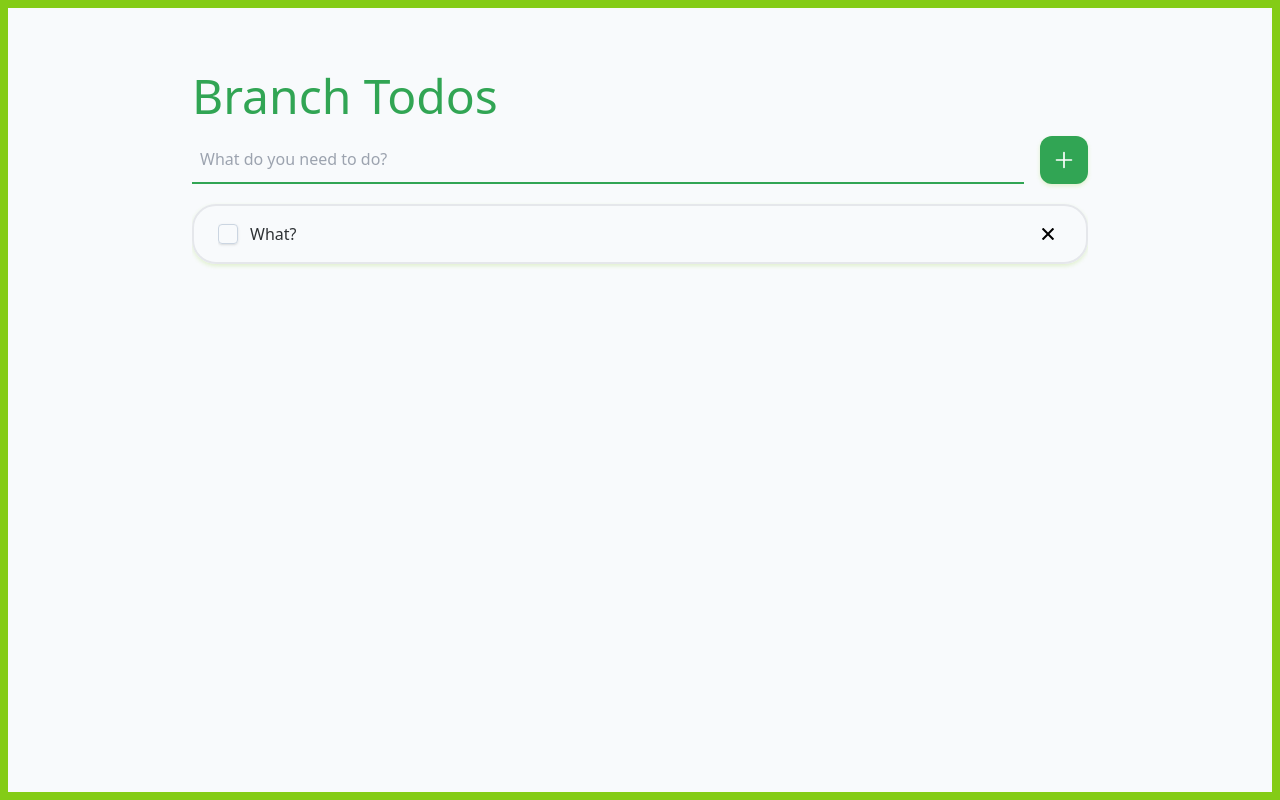
Scenario: App › deletes a todo when delete button is clicked
In the field with test id "todo-input": (608,160) [192, 136, 1024, 184], type "Todo to delete"
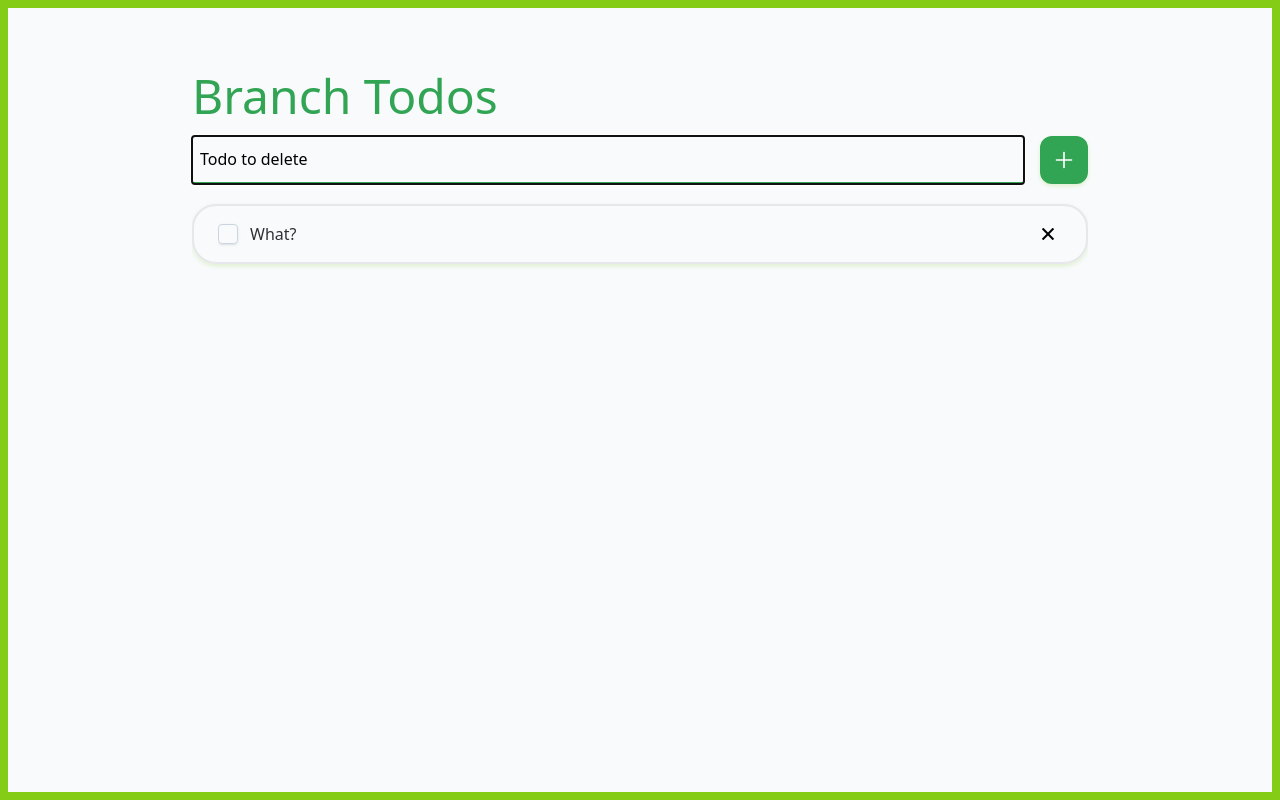
Press Enter
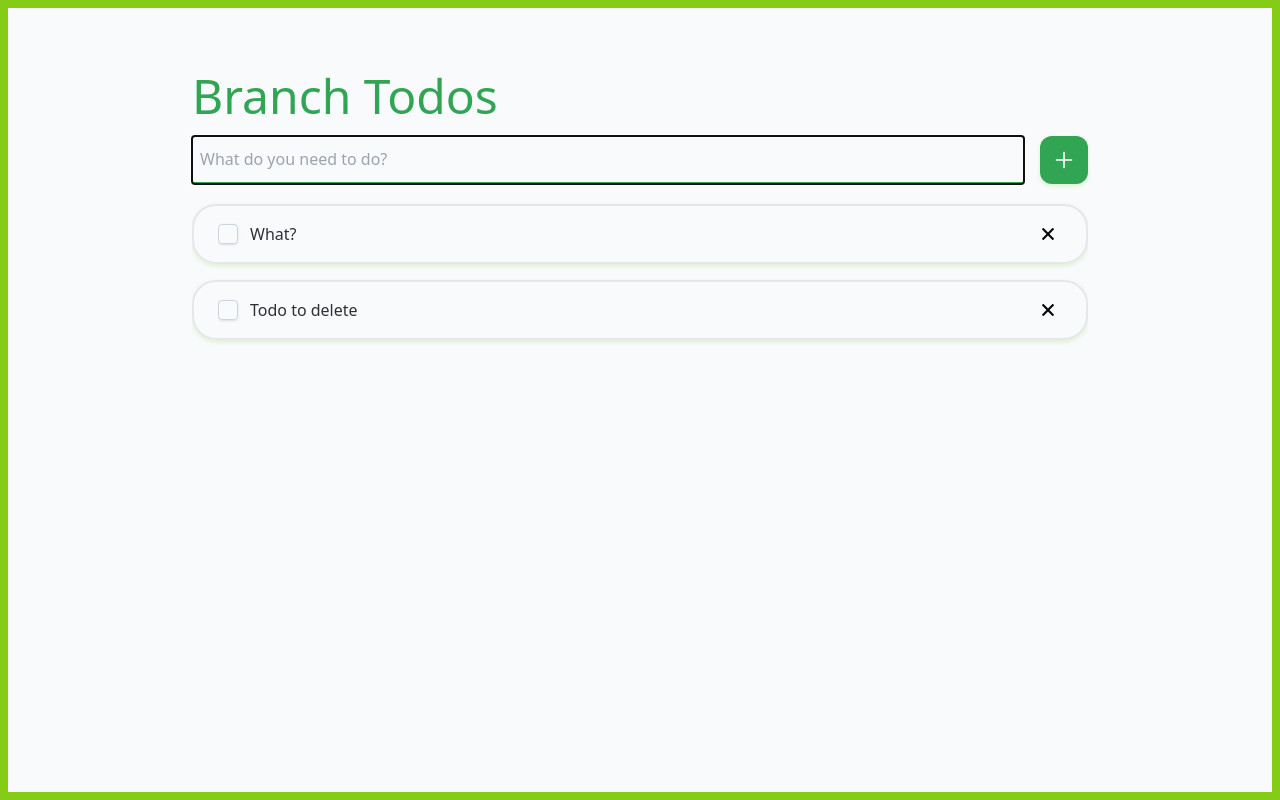
Expected: the button without text in the row of "Todo to delete" is shown
Click the button without text in the row of "Todo to delete": (1048,310) [1042, 282, 1054, 338]
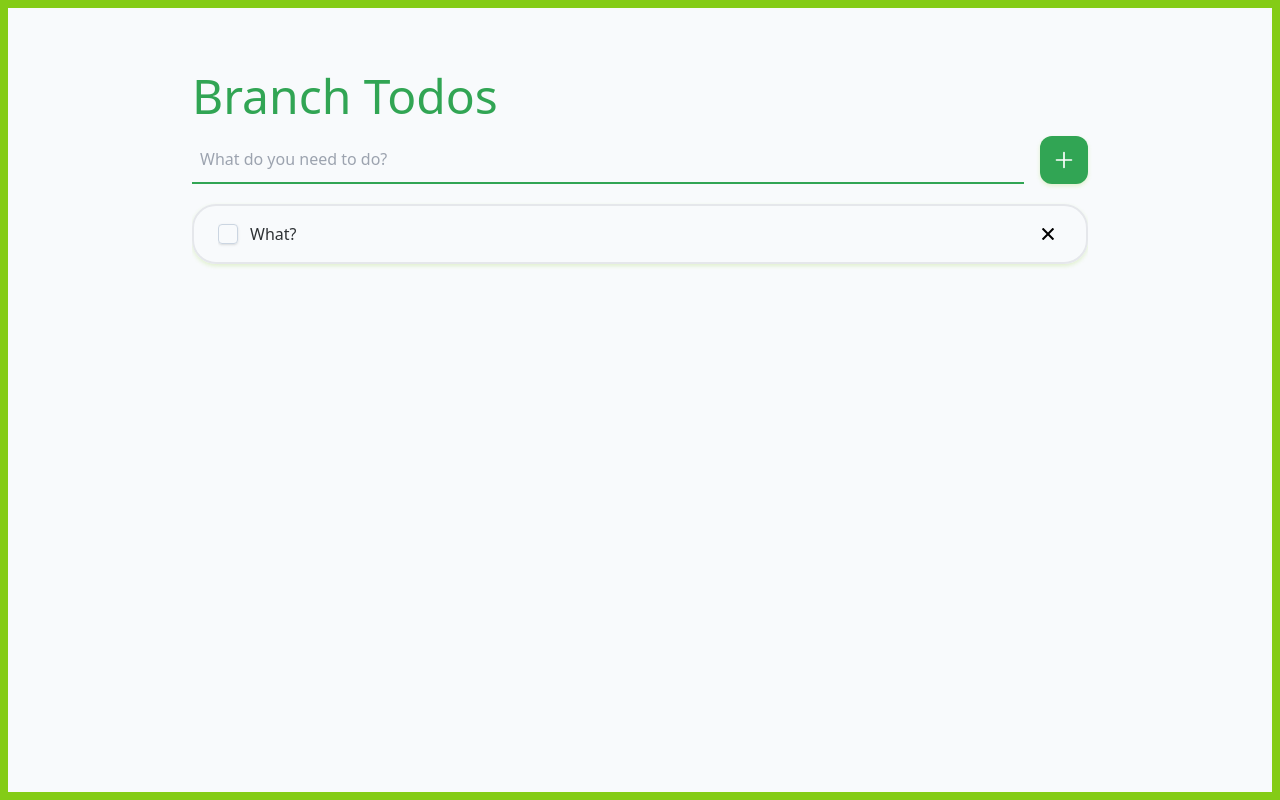
Expected: the text "Todo to delete" is gone
